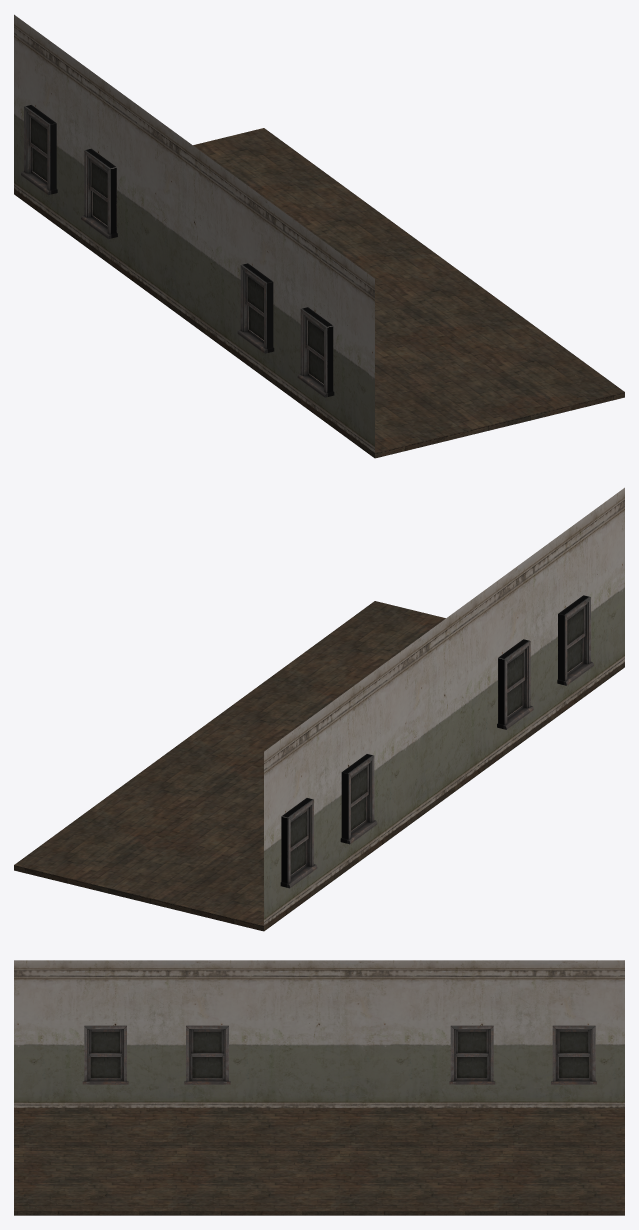
Rendered from hallway_oneside_windows_right_15m.fbx.
3 renders of one model, top to bottom at view 1: azimuth 30°, elevation 25°; view 2: azimuth 150°, elevation 25°; view 3: azimuth 270°, elevation 25°, orthographic. The views are drawn at different scales.
Visible parts, largest first — view 1: hallway_oneside_windows_right_15m; view 2: hallway_oneside_windows_right_15m; view 3: hallway_oneside_windows_right_15m.
Part boxes in pixels (bbox=[...]): hallway_oneside_windows_right_15m: bbox=[14, 14, 624, 458]; hallway_oneside_windows_right_15m: bbox=[14, 487, 624, 931]; hallway_oneside_windows_right_15m: bbox=[14, 960, 624, 1215].
Bounding box in the file's own units: 623 × 412 × 1500.
